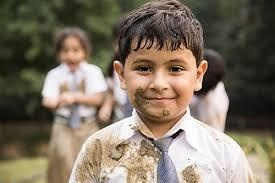earth: (125, 154, 146, 182), (90, 142, 112, 162), (183, 167, 197, 182), (141, 143, 155, 157)
